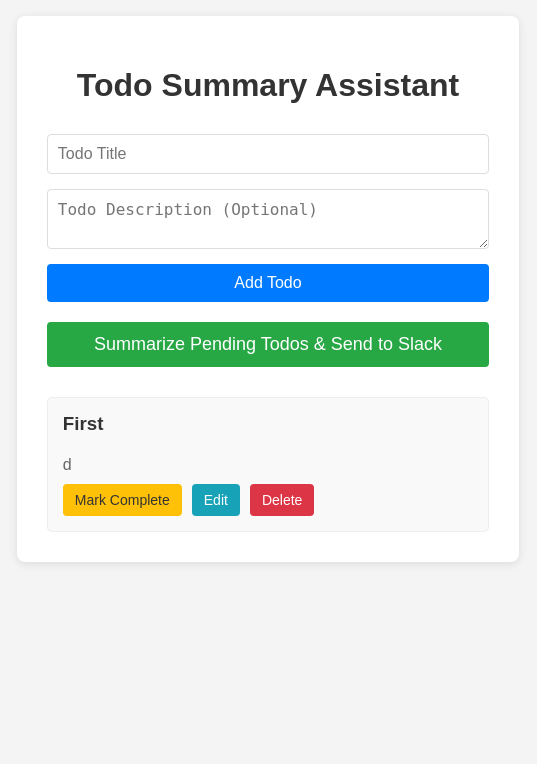
Test: App › adds a todo and shows success notification
Expected: the heading "First" is shown, top-left (63, 413), bottom-right (103, 434)
Step 1. Type "Second" into the field with placeholder "Todo Title" → (268,154), box top-left (47, 134), bottom-right (489, 174)
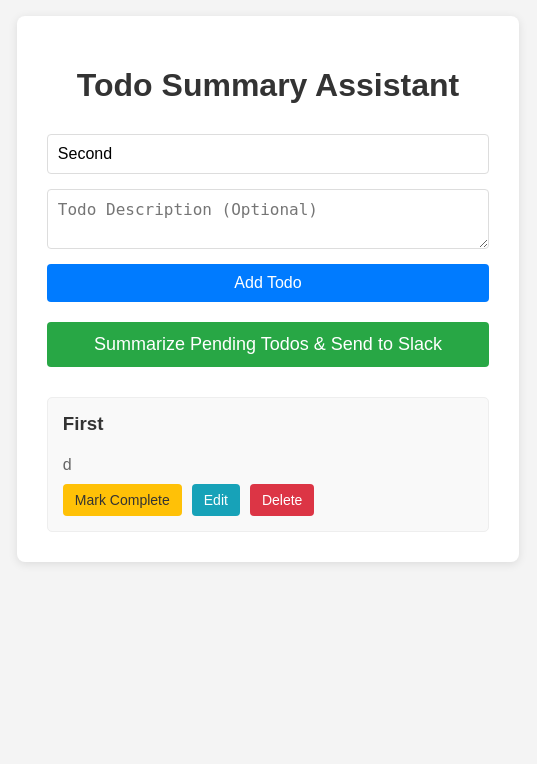
Step 2. Click the button "Add Todo" → (268,283), box top-left (47, 264), bottom-right (489, 302)
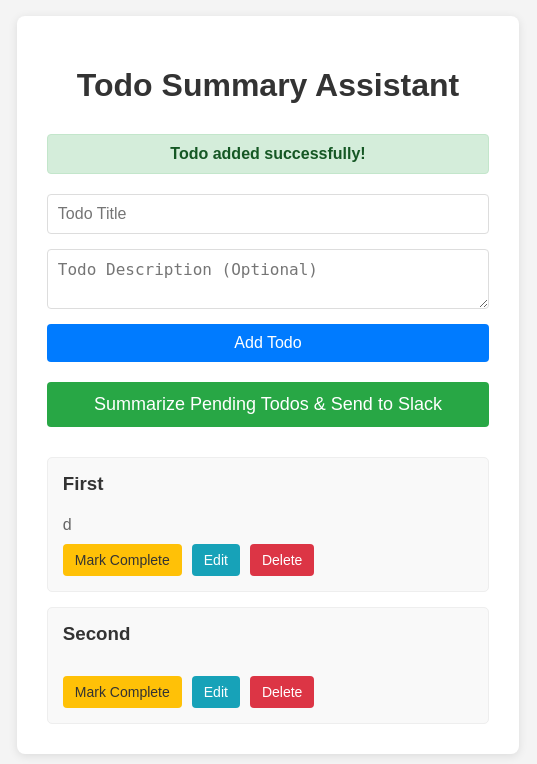
Expected: the text "Todo added successfully!" is shown, top-left (47, 134), bottom-right (489, 174)
Expected: the heading "Second" is shown, top-left (63, 623), bottom-right (130, 644)
